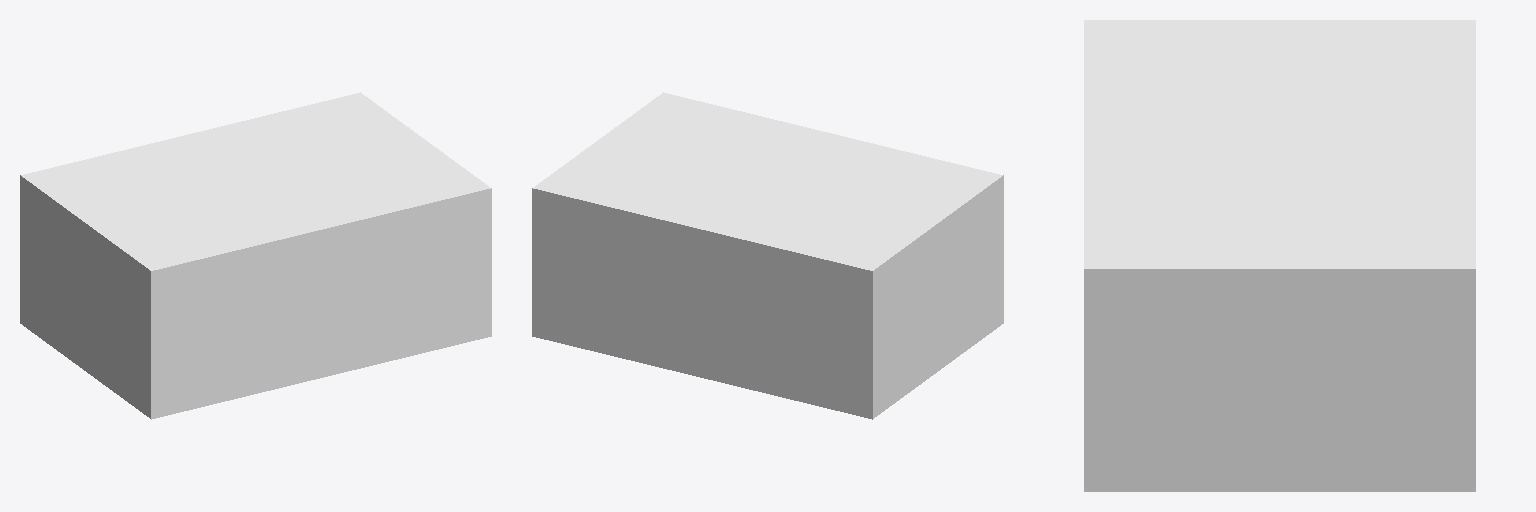
The robot description file, URDF, robot "robot":
<?xml version="1.0"?>
<robot name="robot">
    <!--机器人的身体部分-->
    <link name="base_link">
        <!--部件的外观描述-->
        <visual>
            <!--沿着自己几何中心的偏移和旋转量-->
            <origin xyz="0.0 0.0 0.0" rpy="0.0 0.0 0.0"/>
            <!--几何形状-->
            <geometry>
                <!-- 定义一个长方体：长(x) 宽(y) 高(z)，单位：米 -->
                <box size="0.6 0.4 0.25"/>
            </geometry>
            <!--材质颜色-->
            <material name="white">
                <color rgba="1.0 1.0 1.0 0.5"/>
            </material>
        </visual>
    </link>



    <!--机器人的IMU部件，惯性测量传感器-->
    <link name="imu_link">
        <!--部件的外观描述-->
        <visual>
            <!--沿着自己几何中心的偏移和旋转量-->
            <origin xyz="0.0 0.0 0.0" rpy="0.0 0.0 0.0"/>
            <!--几何形状-->
            <geometry>
                <!-- 定义一个正方体：长(x) 宽(y) 高(z)，单位：米 -->
                <box size="0.02 0.02 0.02"/>
            </geometry>
            <!--材质颜色-->
            <material name="black">
                <color rgba="0.0 0.0 0.0 0.5"/>
            </material>
        </visual>
    </link>

    <!--机器人的关节，用于组合机器人的部件-->
    <joint name="imu_joint" type="fixed">
        <origin xyz="0.0 0.0 0.03" rpy="0.0 0.0 0.0"/>
        <parent link="base_link"/>
        <child link="imu_link"/>
    </joint>

</robot>

--- Facts derived from the render (not from the file) ---
The picture shows the robot from 3 angles, left to right: view 1: azimuth 30°, elevation 25°; view 2: azimuth 150°, elevation 25°; view 3: azimuth 270°, elevation 25°; orthographic projection.
Robot: robot — 2 links, 1 joints (1 fixed); root link base_link; default pose: all joints at 0.
Links seen in each view (by area): view 1: base_link; view 2: base_link; view 3: base_link.
Boxes of the visible links, x1,y1,x2,y2 form: base_link: (20,92,491,419); base_link: (532,92,1003,419); base_link: (1084,20,1475,491).
Bounding box of the posed robot: 0.6 × 0.4 × 0.25 m (x, y, z).
Geometry: primitives only (box / cylinder / sphere), no mesh files.
